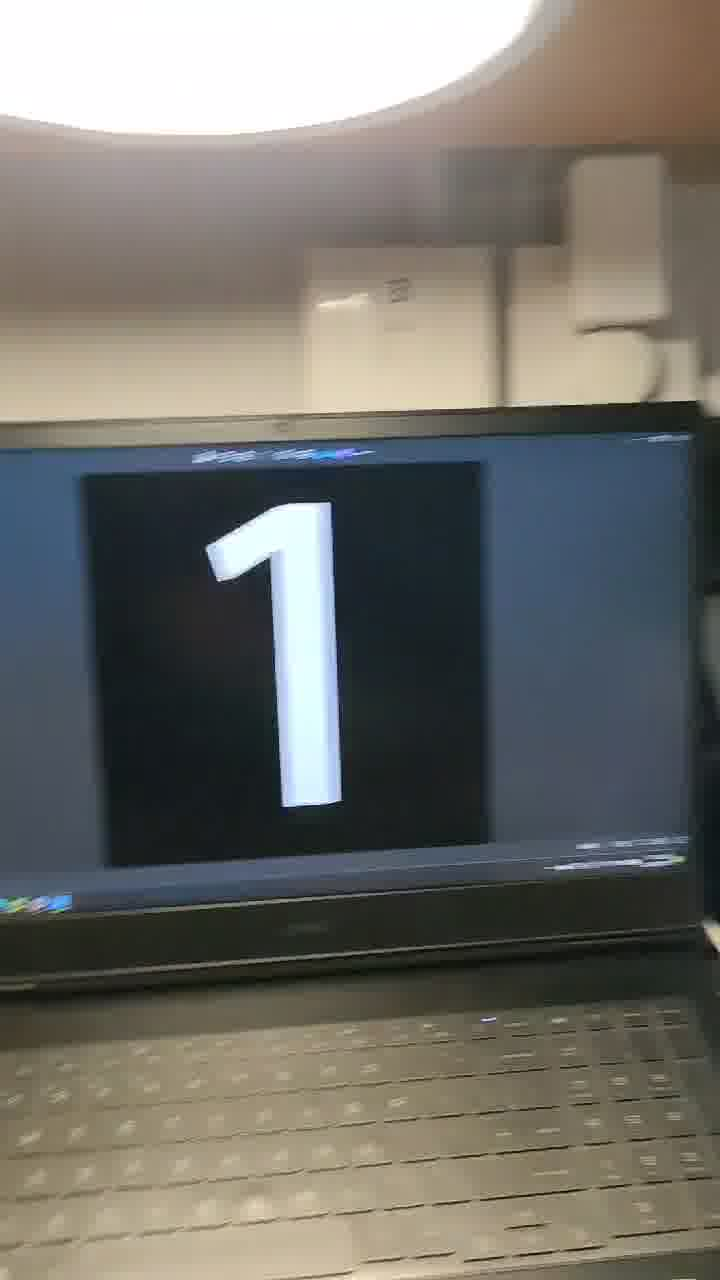one: (163, 436, 452, 846)
